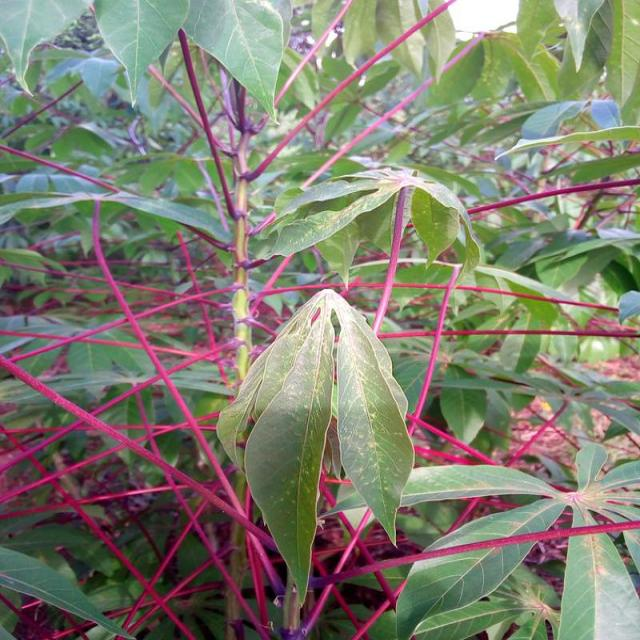cassava leaf: (215, 286, 415, 606)
